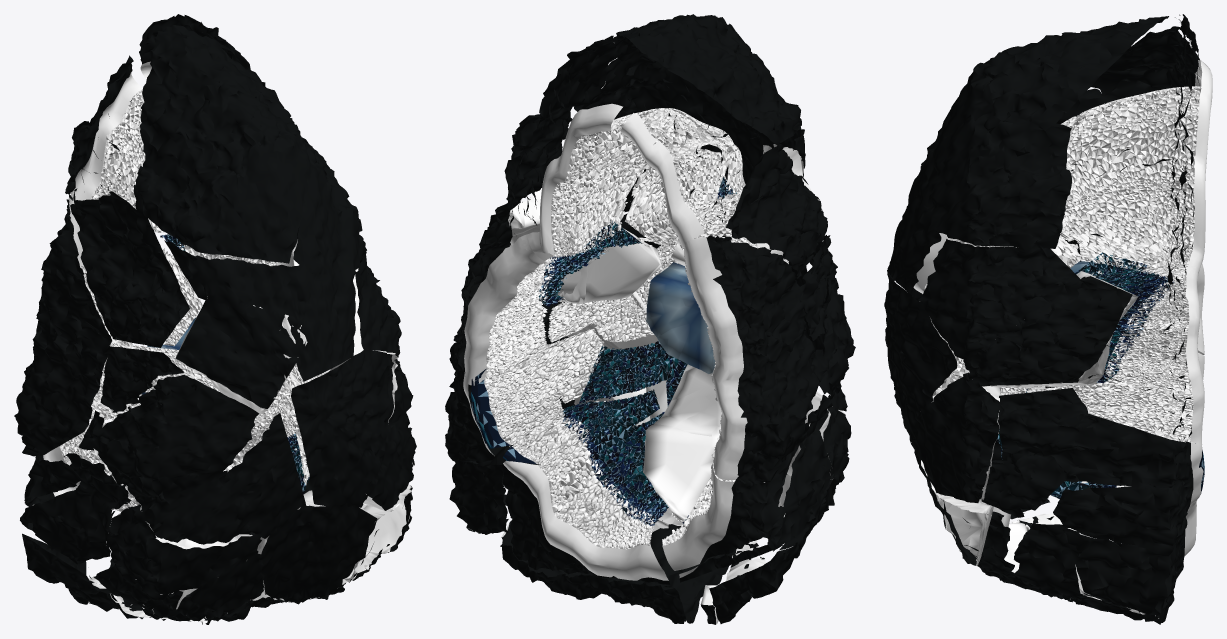
The model's file is geode-fracture-v2.glb.
The picture shows the model from 3 angles, left to right: view 1: azimuth 30°, elevation 25°; view 2: azimuth 150°, elevation 25°; view 3: azimuth 270°, elevation 25°; orthographic projection.
Parts seen in each view (by area): view 1: Geode fragment 07, Geode fragment 47, Geode fragment 38, Geode fragment 10, Geode fragment 72, Geode fragment 11, Geode fragment 52, Geode fragment 06, Geode fragment 64, Geode fragment 27, Geode fragment 56, Geode fragment 08 (+19 smaller); view 2: Geode fragment 47, Geode fragment 05, Geode fragment 61, Geode fragment 07, Geode fragment 06, Geode fragment 62, Geode fragment 39, Geode fragment 10, Geode fragment 17, Geode fragment 15, Geode fragment 01, Geode fragment 04 (+27 smaller); view 3: Geode fragment 05, Geode fragment 04, Geode fragment 02, Geode fragment 07, Geode fragment 01, Geode fragment 62, Geode fragment 06, Geode fragment 22, Geode fragment 73, Geode fragment 53, Geode fragment 57, Geode fragment 38 (+16 smaller).
Part boxes in pixels (x1,y1,x2,y2): Geode fragment 07: (133, 25, 312, 263); Geode fragment 47: (14, 194, 132, 456); Geode fragment 38: (283, 349, 393, 507); Geode fragment 10: (70, 191, 202, 347); Geode fragment 72: (87, 375, 259, 482); Geode fragment 11: (175, 295, 307, 414); Geode fragment 52: (257, 490, 377, 602); Geode fragment 06: (65, 55, 164, 232); Geode fragment 64: (106, 504, 261, 594); Geode fragment 27: (113, 470, 251, 544); Geode fragment 56: (219, 402, 306, 538); Geode fragment 08: (164, 240, 320, 331); Geode fragment 47: (684, 235, 819, 483); Geode fragment 05: (502, 35, 661, 253); Geode fragment 61: (501, 443, 669, 584); Geode fragment 07: (613, 14, 801, 147); Geode fragment 06: (550, 78, 760, 257); Geode fragment 62: (453, 197, 556, 385); Geode fragment 39: (471, 305, 568, 448); Geode fragment 10: (702, 144, 827, 278); Geode fragment 17: (643, 364, 721, 524); Geode fragment 15: (662, 431, 806, 570); Geode fragment 01: (508, 188, 661, 303); Geode fragment 04: (574, 49, 725, 119); Geode fragment 05: (1062, 14, 1212, 274); Geode fragment 04: (917, 113, 1071, 248); Geode fragment 02: (918, 239, 1089, 359); Geode fragment 07: (924, 16, 1168, 161); Geode fragment 01: (963, 271, 1138, 388); Geode fragment 62: (1087, 261, 1204, 444); Geode fragment 06: (1062, 26, 1210, 274); Geode fragment 22: (998, 386, 1090, 510); Geode fragment 73: (908, 372, 1001, 503); Geode fragment 53: (1053, 467, 1203, 555); Geode fragment 57: (1065, 412, 1202, 489); Geode fragment 38: (884, 270, 969, 450).
Bounding box in the file's own units: 0.4929 × 0.802 × 0.4206.
